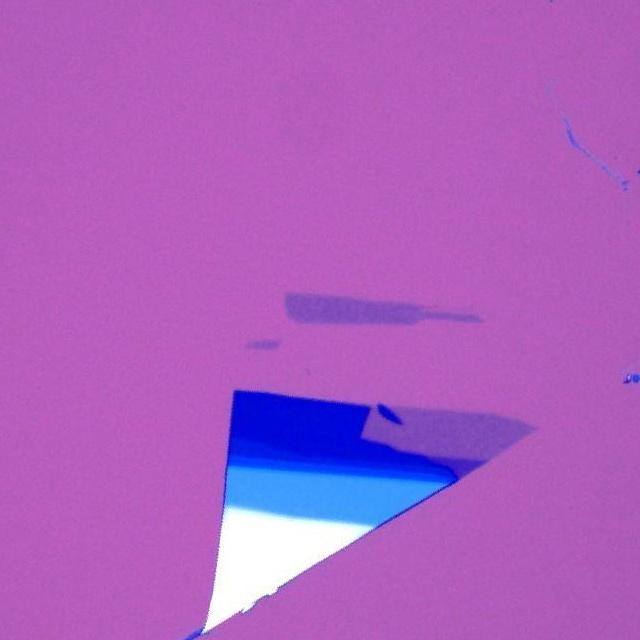monolayer-eWW4: (367, 395, 540, 464), (282, 288, 484, 326)
